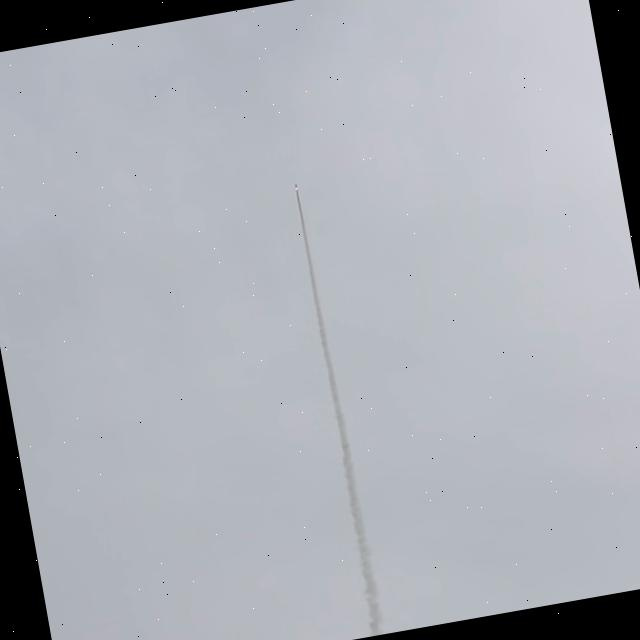smoke_trail_with_rocket: (298, 213, 384, 636)
